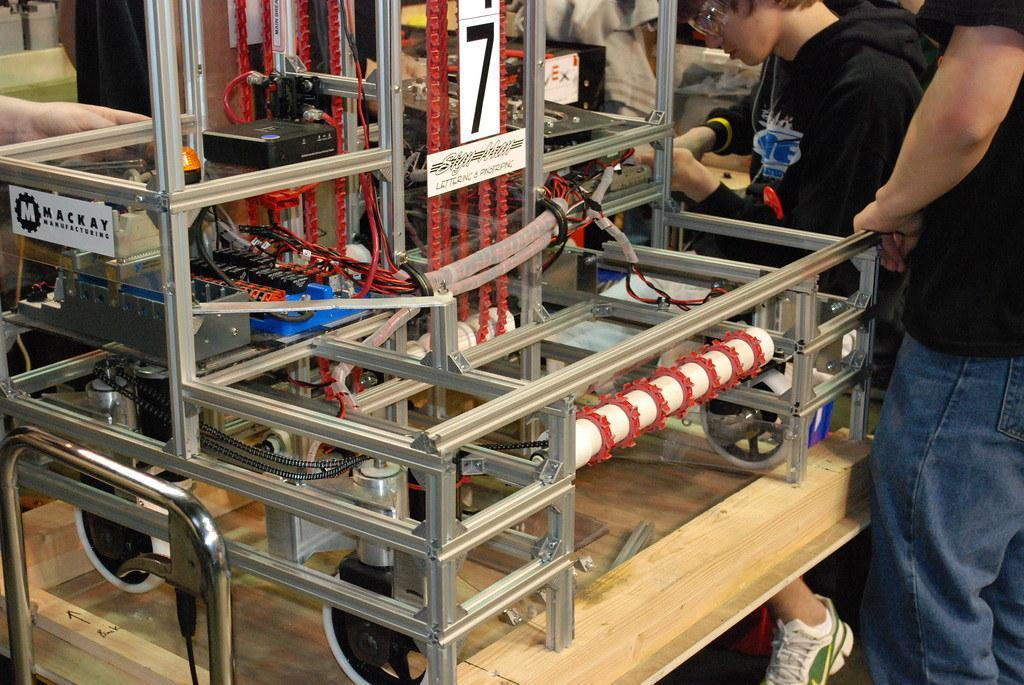robot: (0, 0, 887, 685)
